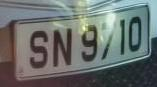0: (127, 11, 144, 57)
1: (115, 16, 129, 62)
7: (99, 17, 118, 63)
9: (79, 21, 100, 68)
N: (49, 23, 76, 73)
S: (25, 23, 52, 76)
